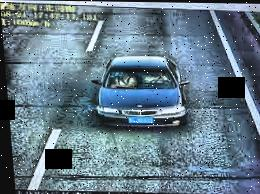seatbelt: (115, 75, 127, 85), (151, 73, 163, 83)
